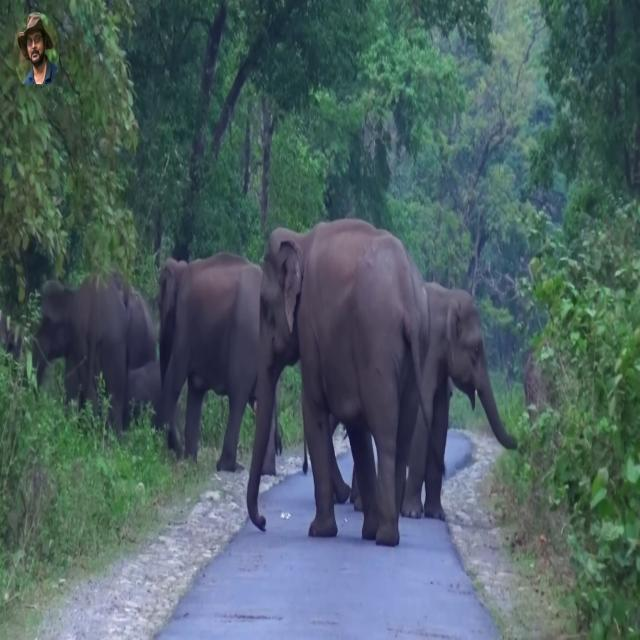Elephant: (246, 216, 432, 545), (347, 280, 518, 521), (156, 251, 283, 474), (30, 270, 156, 438)
